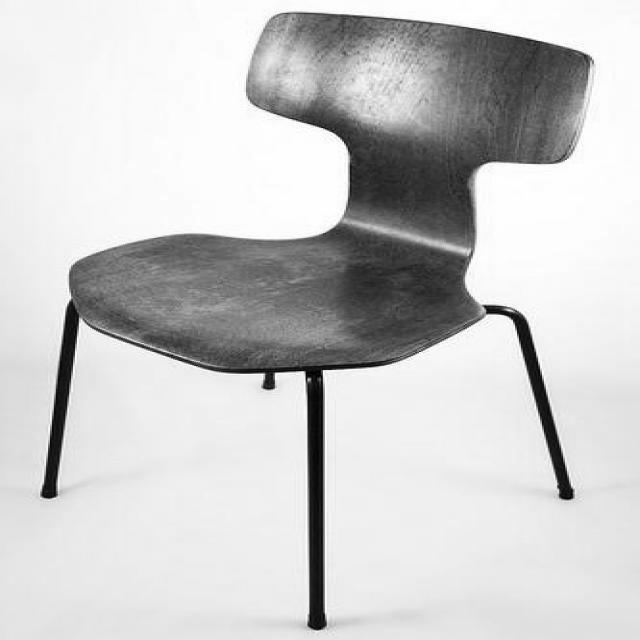chair: (41, 12, 616, 631)
